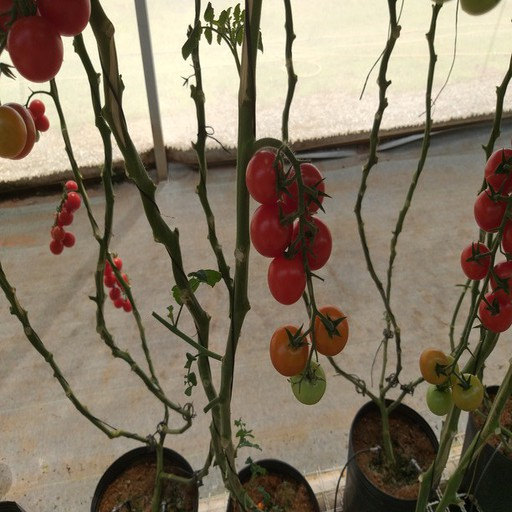red tomato bunch: (244, 150, 349, 378), (460, 148, 512, 332), (1, 1, 93, 82), (1, 99, 52, 158), (49, 180, 78, 255), (100, 253, 135, 312)
